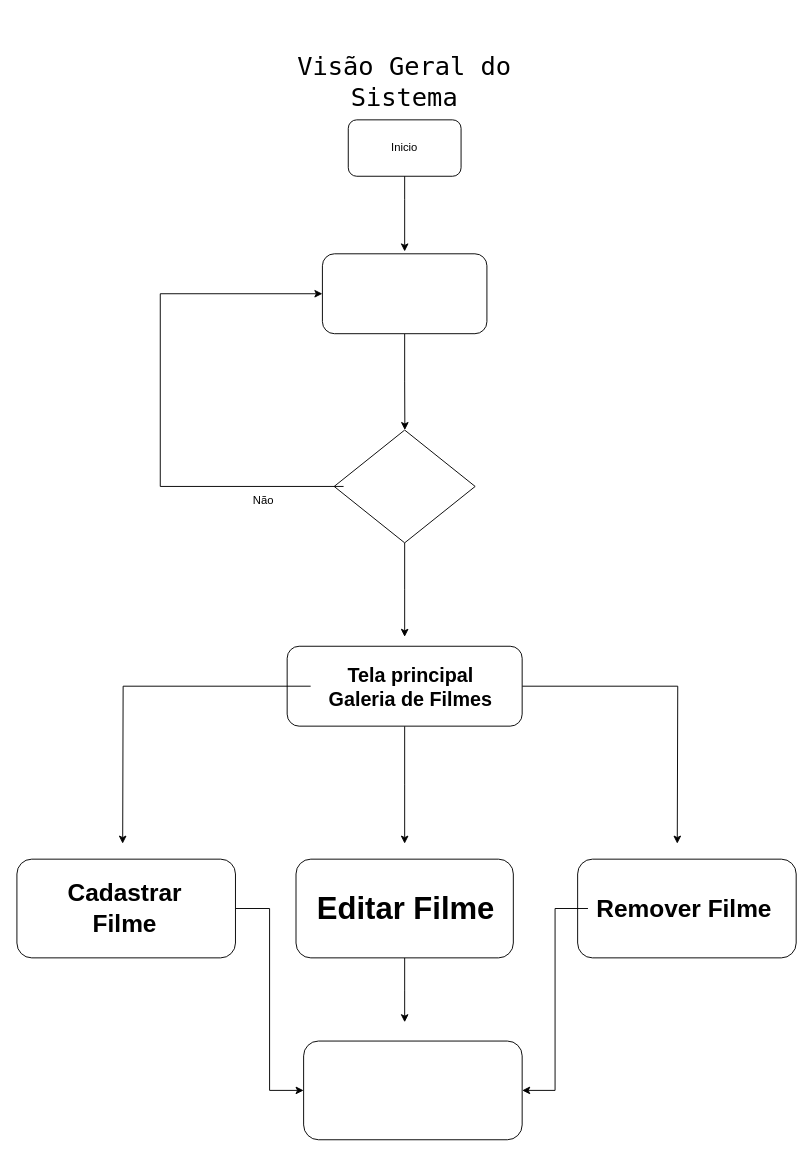
Image size: 812x1156. Some labels were removed from this diagram. Each missing label, with the box of its shape:
Atualiza a lista de Filme: (303, 1040, 522, 1140)
Login Válido?: (333, 429, 475, 543)
Tela de Login Informar e-mail e senha: (321, 253, 487, 334)
